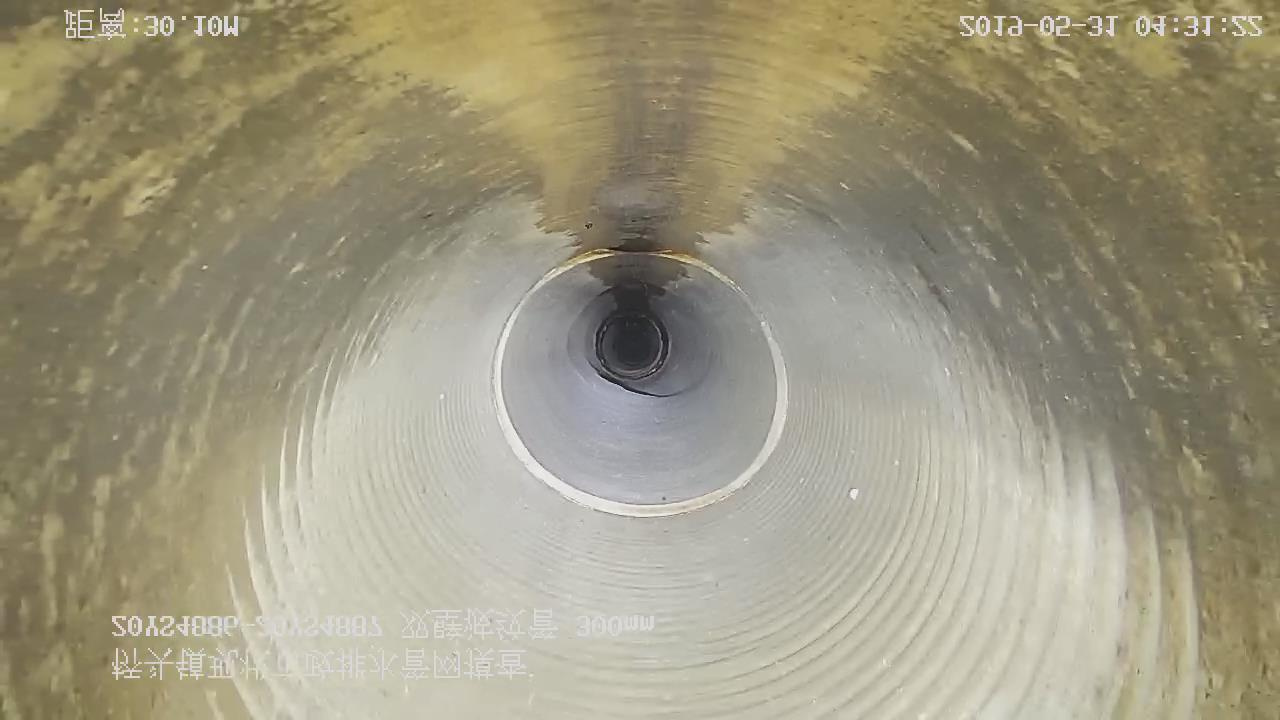BX: (566, 292, 719, 403)
CKTJ: (490, 249, 788, 518)
